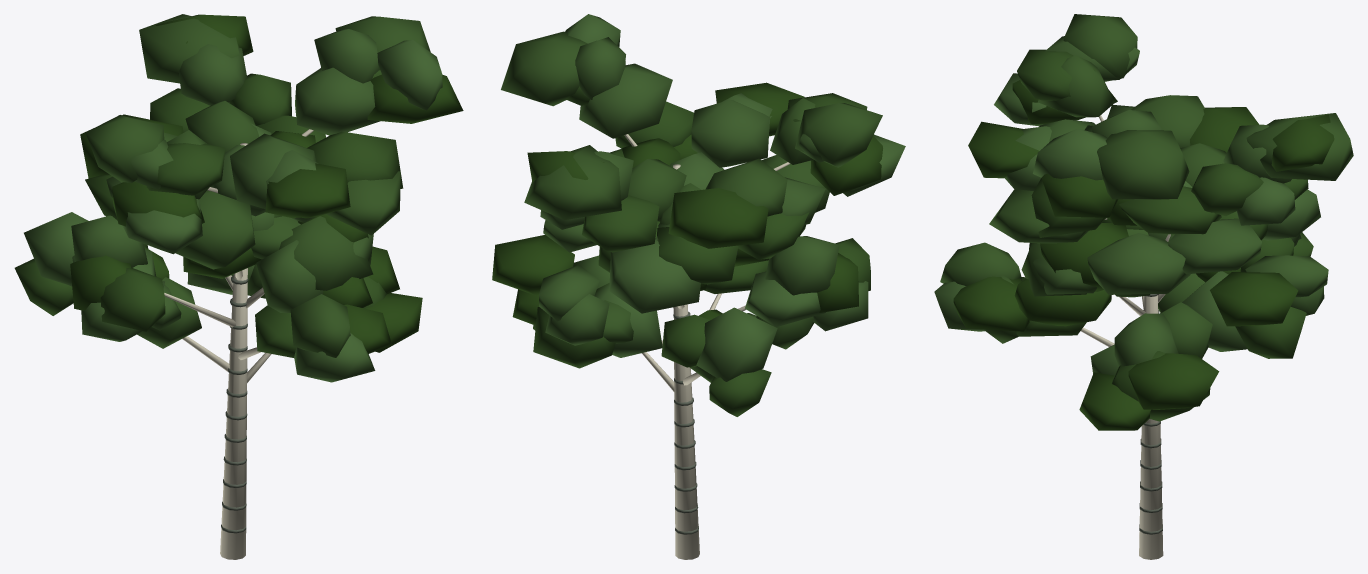
The model's file is birch.glb.
3 views of the same model, side by side, from view 1: azimuth 30°, elevation 25°; view 2: azimuth 150°, elevation 25°; view 3: azimuth 270°, elevation 25° (orthographic). The views are drawn at different scales.
Parts seen in each view (by area): view 1: Birch trunk.001, Birch leaf cluster.167, Birch leaf cluster.151, Birch leaf cluster.131, Birch leaf cluster.116, Birch leaf cluster.149, Birch leaf cluster.145, Birch leaf cluster.156, Birch leaf cluster.110, Birch leaf cluster.163, Birch leaf cluster.152, Birch leaf cluster.147 (+35 smaller); view 2: Birch leaf cluster.139, Birch leaf cluster.151, Birch leaf cluster.123, Birch leaf cluster.166, Birch leaf cluster.167, Birch leaf cluster.147, Birch leaf cluster.093, Birch trunk.001, Birch leaf cluster.156, Birch leaf cluster.104, Birch leaf cluster.112, Birch leaf cluster.155 (+34 smaller); view 3: Birch leaf cluster.166, Birch leaf cluster.137, Birch leaf cluster.089, Birch leaf cluster.104, Birch leaf cluster.132, Birch leaf cluster.099, Birch leaf cluster.156, Birch leaf cluster.151, Birch trunk.001, Birch leaf cluster.135, Birch leaf cluster.163, Birch leaf cluster.119 (+37 smaller).
Part boxes in pixels (x1,y1,x2,y2): Birch trunk.001: (220, 143, 247, 559); Birch leaf cluster.167: (295, 67, 380, 135); Birch leaf cluster.151: (139, 14, 239, 83); Birch leaf cluster.131: (175, 190, 255, 269); Birch leaf cluster.116: (279, 216, 373, 290); Birch leaf cluster.149: (265, 163, 350, 218); Birch leaf cluster.145: (307, 131, 403, 188); Birch leaf cluster.156: (85, 115, 164, 182); Birch leaf cluster.110: (100, 267, 165, 331); Birch leaf cluster.163: (377, 40, 442, 110); Birch leaf cluster.152: (178, 44, 247, 105); Birch leaf cluster.147: (230, 133, 316, 209); Birch leaf cluster.139: (668, 188, 768, 248); Birch leaf cluster.151: (524, 145, 621, 220); Birch leaf cluster.123: (609, 237, 700, 313); Birch leaf cluster.166: (501, 31, 587, 106); Birch leaf cluster.167: (579, 63, 672, 138); Birch leaf cluster.147: (691, 100, 769, 167); Birch leaf cluster.093: (696, 307, 777, 381); Birch trunk.001: (673, 164, 699, 559); Birch leaf cluster.156: (795, 103, 882, 167); Birch leaf cluster.104: (492, 235, 574, 295); Birch leaf cluster.112: (765, 236, 839, 295); Birch leaf cluster.155: (582, 195, 659, 252); Birch leaf cluster.166: (1097, 130, 1189, 199); Birch leaf cluster.137: (1087, 233, 1190, 294); Birch leaf cluster.089: (1128, 353, 1219, 409); Birch leaf cluster.104: (1210, 272, 1298, 326); Birch leaf cluster.132: (1168, 218, 1261, 274); Birch leaf cluster.099: (953, 276, 1029, 331); Birch leaf cluster.156: (1063, 14, 1137, 81); Birch leaf cluster.151: (1246, 113, 1353, 180); Birch trunk.001: (1139, 295, 1163, 559); Birch leaf cluster.135: (1119, 186, 1221, 234); Birch leaf cluster.163: (1033, 128, 1107, 180); Birch leaf cluster.119: (1014, 278, 1111, 326).
Size of the model in its own units: 5.65 by 7.75 by 5.96.
